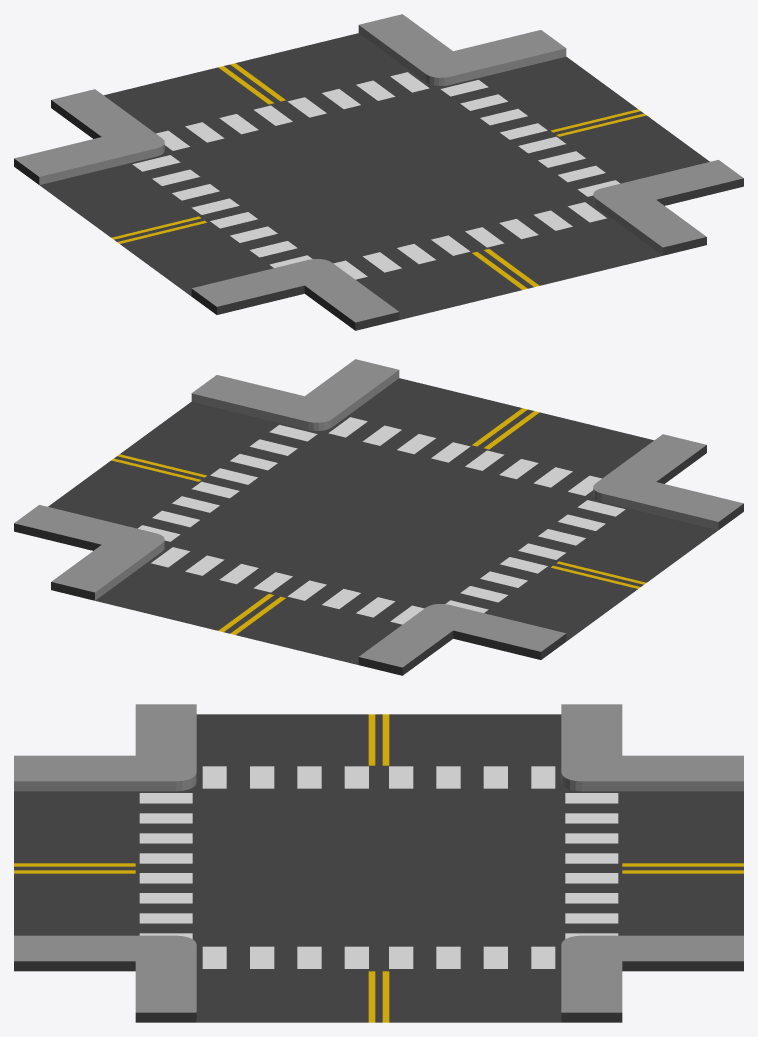
The model's file is Intersection.glb.
3 renders of one model, top to bottom at view 1: azimuth 30°, elevation 25°; view 2: azimuth 150°, elevation 25°; view 3: azimuth 270°, elevation 25°, orthographic. The views are drawn at different scales.
Visible parts, largest first — view 1: Plane-col.Static; view 2: Plane-col.Static; view 3: Plane-col.Static.
Boxes of the visible parts, bbox=[...] form: Plane-col.Static: bbox=[14, 14, 743, 330]; Plane-col.Static: bbox=[14, 359, 743, 675]; Plane-col.Static: bbox=[14, 704, 743, 1022].
Size of the model in its own units: 2 by 0.03 by 2.
